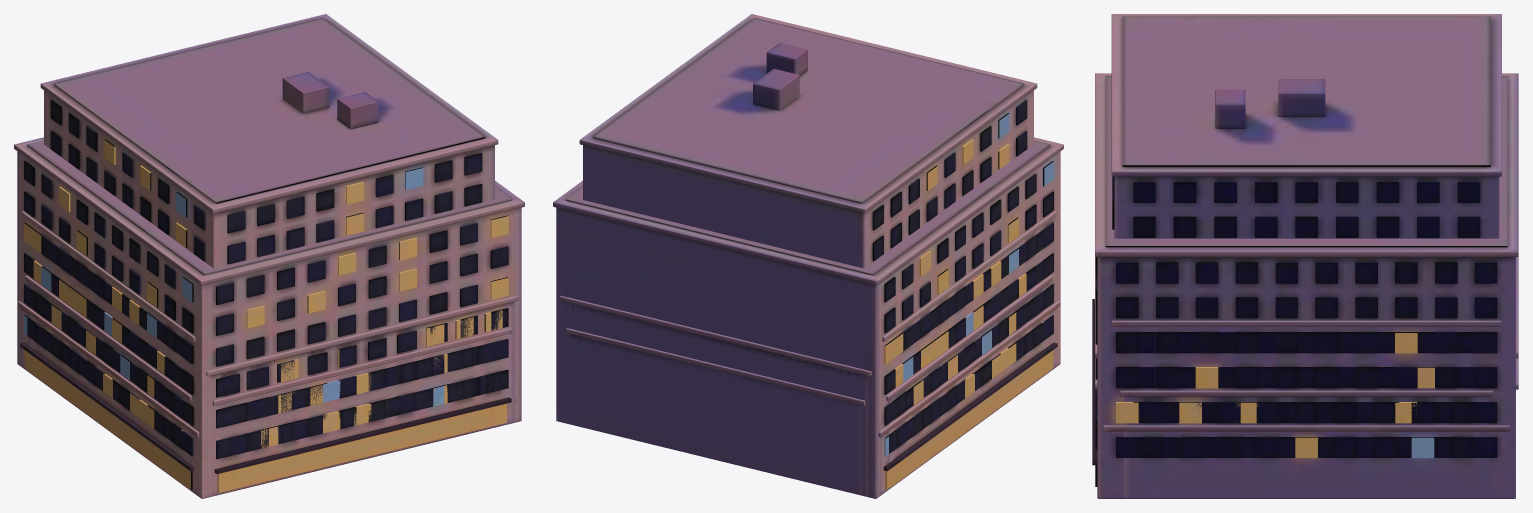
Rendered from filler.glb.
3 views of the same model, side by side, from view 1: azimuth 30°, elevation 25°; view 2: azimuth 150°, elevation 25°; view 3: azimuth 270°, elevation 25° (orthographic). The views are drawn at different scales.
Visible parts, largest first — view 1: filler_7, filler_6, filler_3, filler_1, filler_2, filler_4, filler_0; view 2: filler_6, filler_7, filler_1, filler_3, filler_2, filler_4, filler_0; view 3: filler_7, filler_6, filler_2, filler_4, filler_0, filler_1.
Boxes of the visible parts, <box> form: filler_7: <box>40,14,498,268</box>; filler_6: <box>14,137,524,498</box>; filler_3: <box>206,295,518,497</box>; filler_1: <box>212,328,511,494</box>; filler_2: <box>25,275,191,489</box>; filler_4: <box>21,211,195,492</box>; filler_0: <box>17,301,199,495</box>; filler_6: <box>553,137,1063,498</box>; filler_7: <box>579,14,1037,268</box>; filler_1: <box>566,328,865,494</box>; filler_3: <box>559,295,871,497</box>; filler_2: <box>886,275,1052,489</box>; filler_4: <box>882,211,1056,492</box>; filler_0: <box>878,301,1060,495</box>; filler_7: <box>1111,14,1501,238</box>; filler_6: <box>1092,73,1518,498</box>; filler_2: <box>1120,390,1493,498</box>; filler_4: <box>1111,320,1501,498</box>; filler_0: <box>1103,425,1510,498</box>; filler_1: <box>1092,306,1518,454</box>.
Bounding box in the file's own units: 5.09 × 4.53 × 5.09.
Materials: 1 (1 with a texture image).
